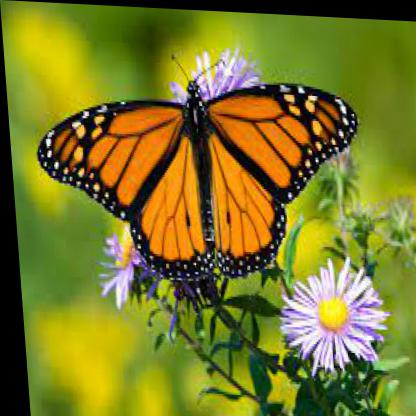Butterfly: (27, 53, 370, 291)
